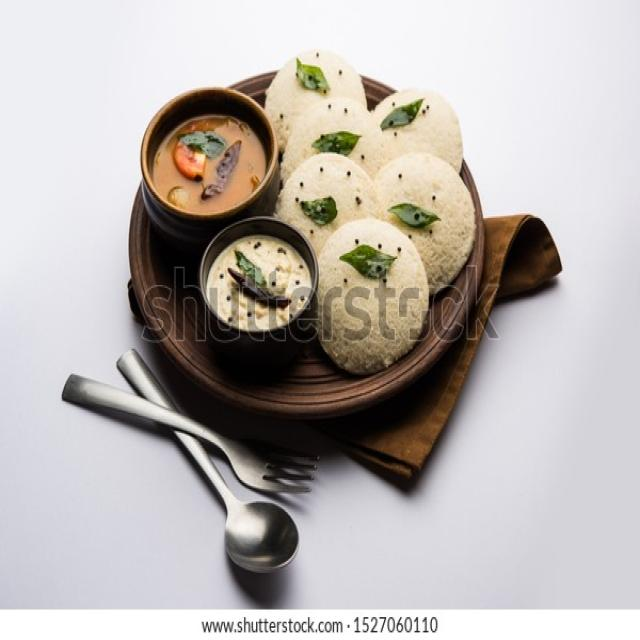IDLI: (319, 219, 428, 373), (373, 154, 474, 293), (277, 154, 378, 259), (265, 49, 366, 151), (283, 99, 385, 180), (365, 90, 463, 172)
